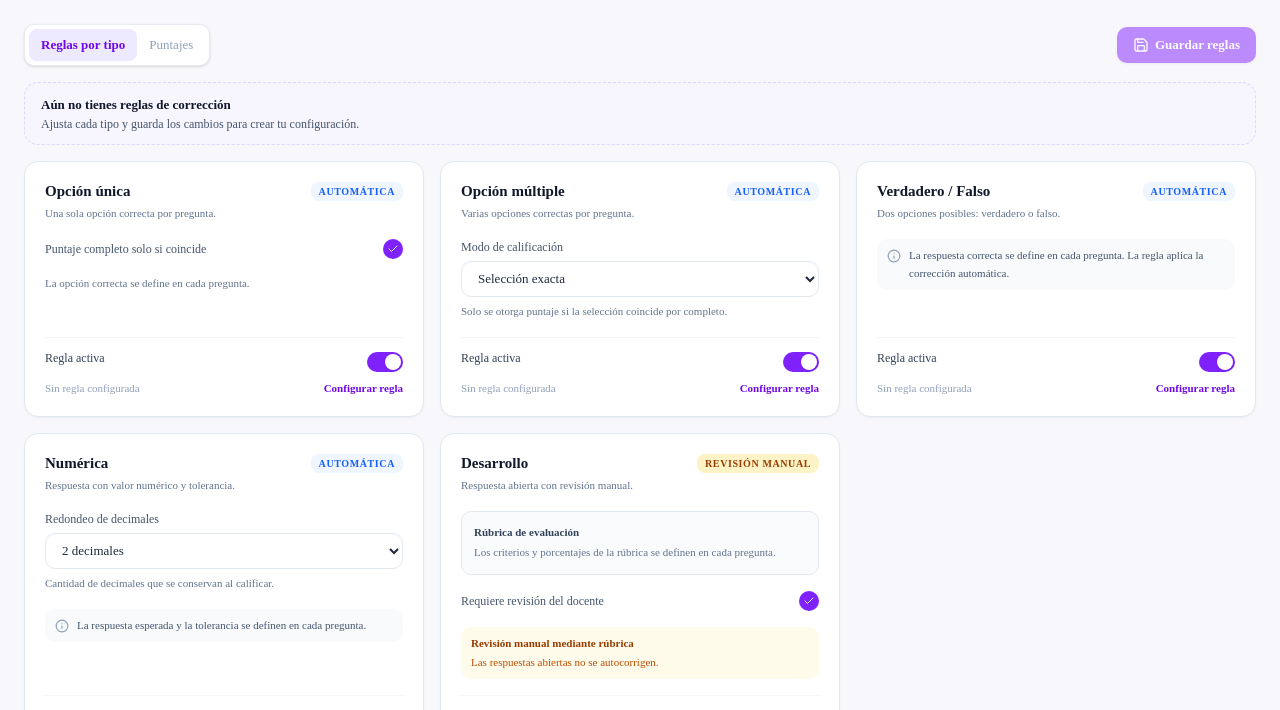
Test: ReglasCorreccion › deshabilita el botón mientras se guarda
Check: the text "Aún no tienes reglas de corrección" is shown, box [41,96,231,112]
Click the checkbox labelled "Regla activa" below "Puntaje completo solo si coincide".
click(75, 358)  # box [45,350,105,366]
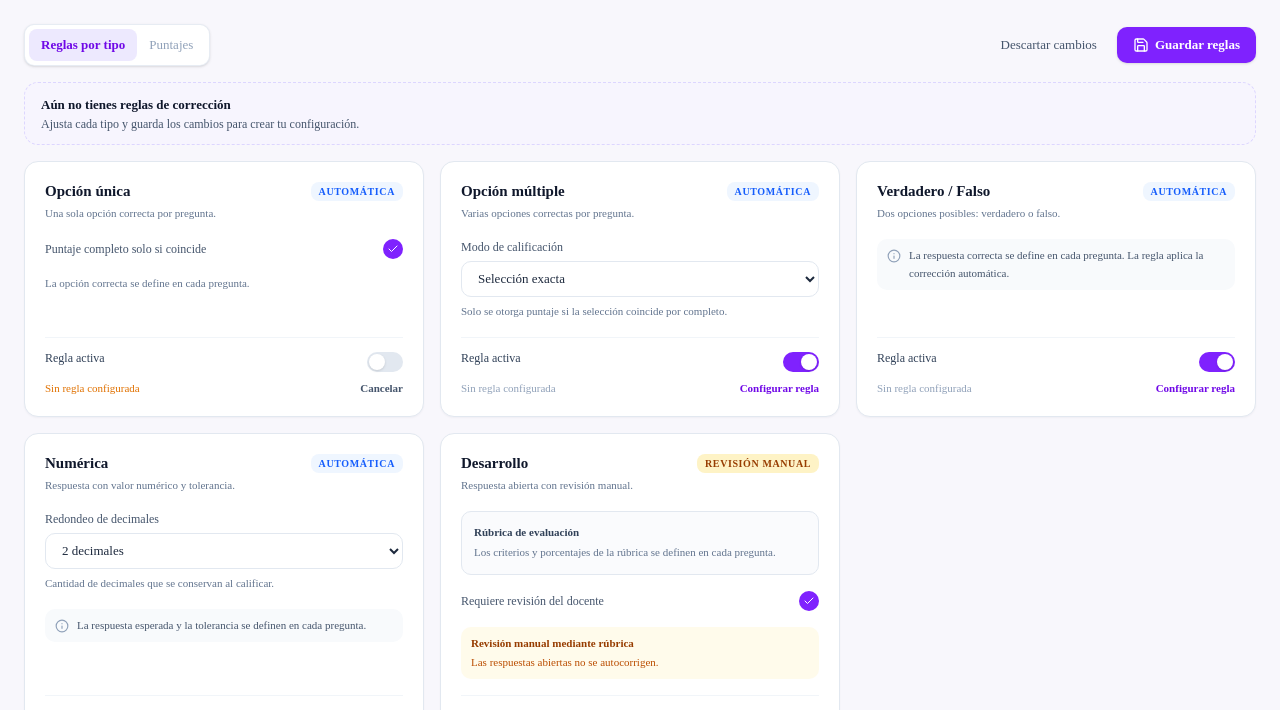
Click the checkbox labelled "Regla activa" below "Puntaje completo solo si coincide".
click(75, 358)  # box [45,350,105,366]
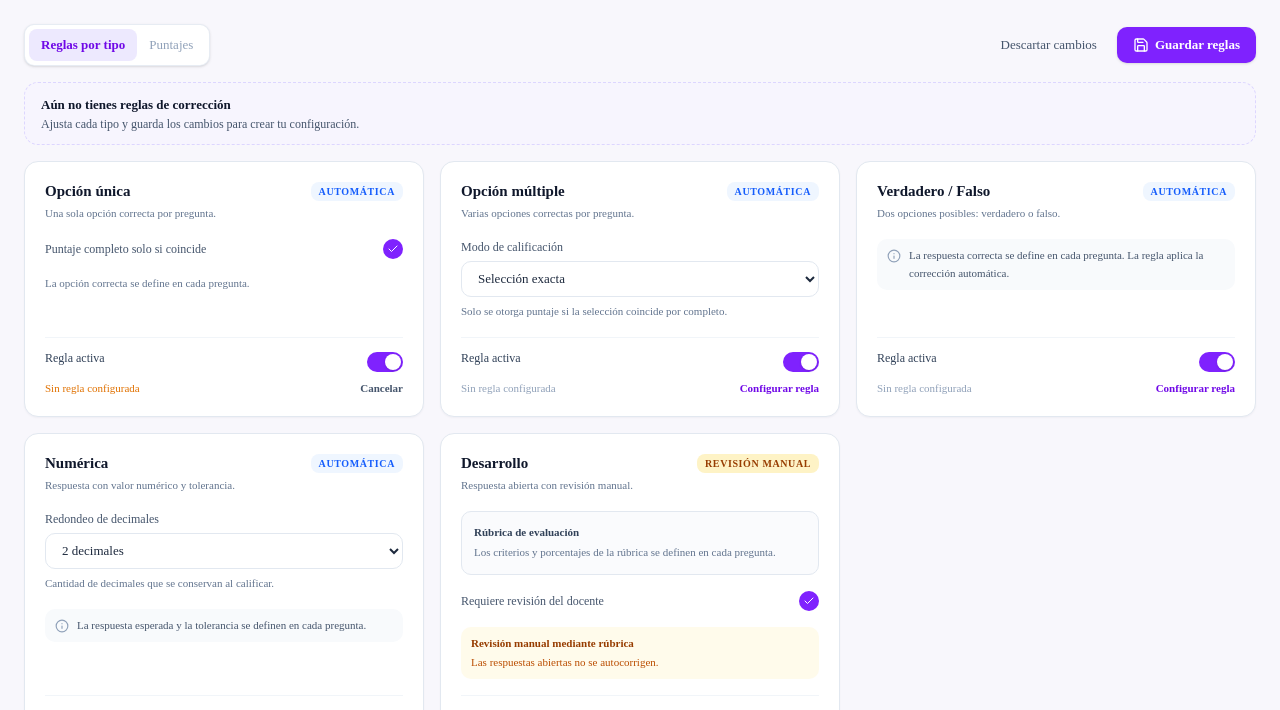
Click the button "Guardar reglas".
click(1186, 45)  # box [1117,27,1256,63]
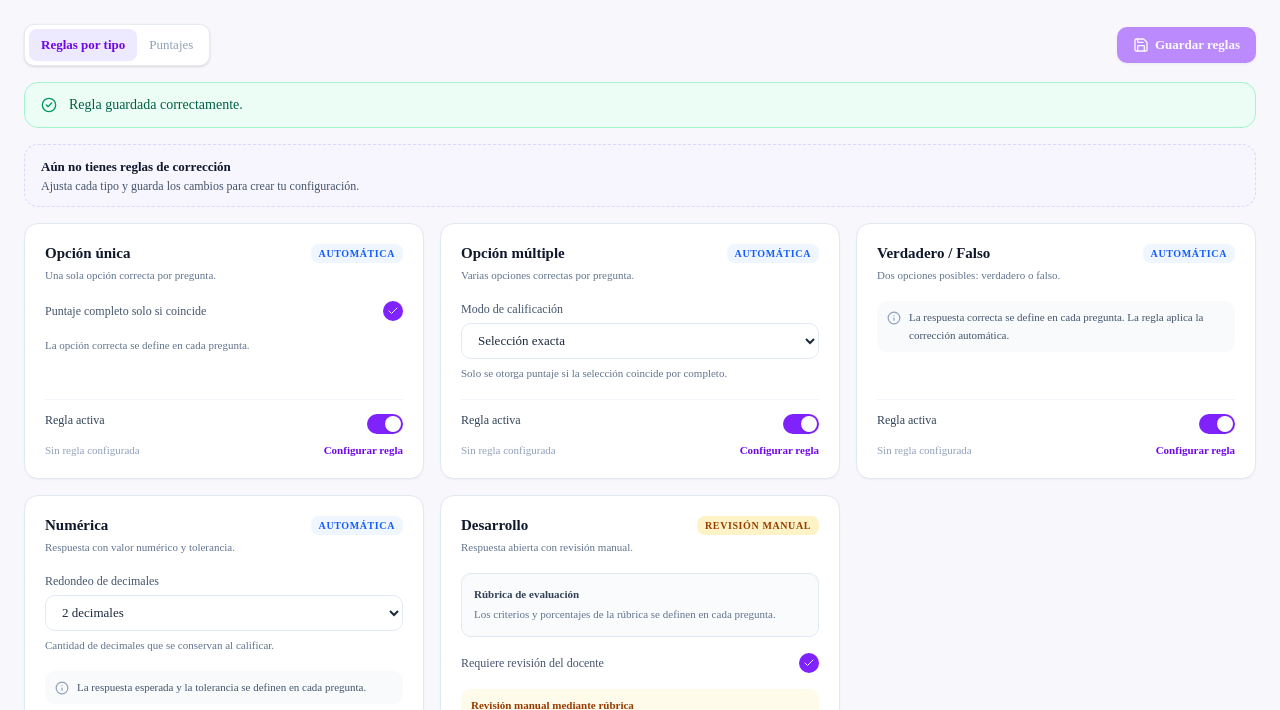
Check: the button named "Guardando..." is disabled, box [1117,27,1256,63]
Check: the text "Regla guardada correctamente." is shown, box [69,94,243,114]
